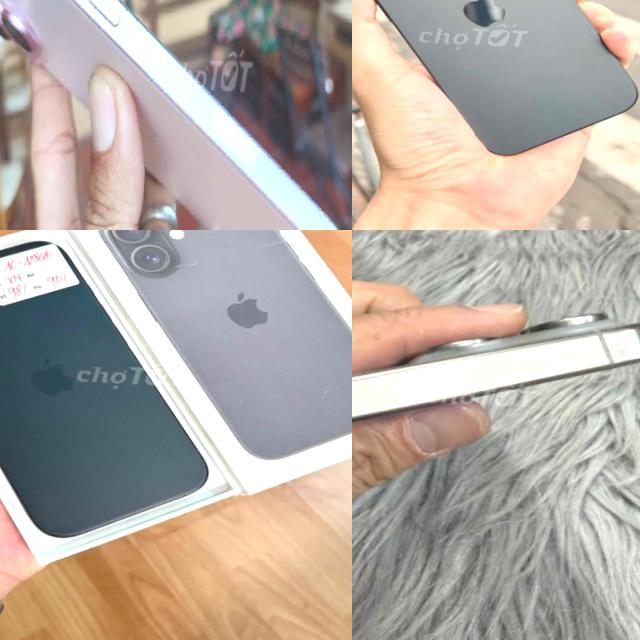gen_15: (0, 0, 352, 230), (352, 284, 640, 486), (352, 0, 640, 167)
gen_16: (0, 241, 207, 536)
